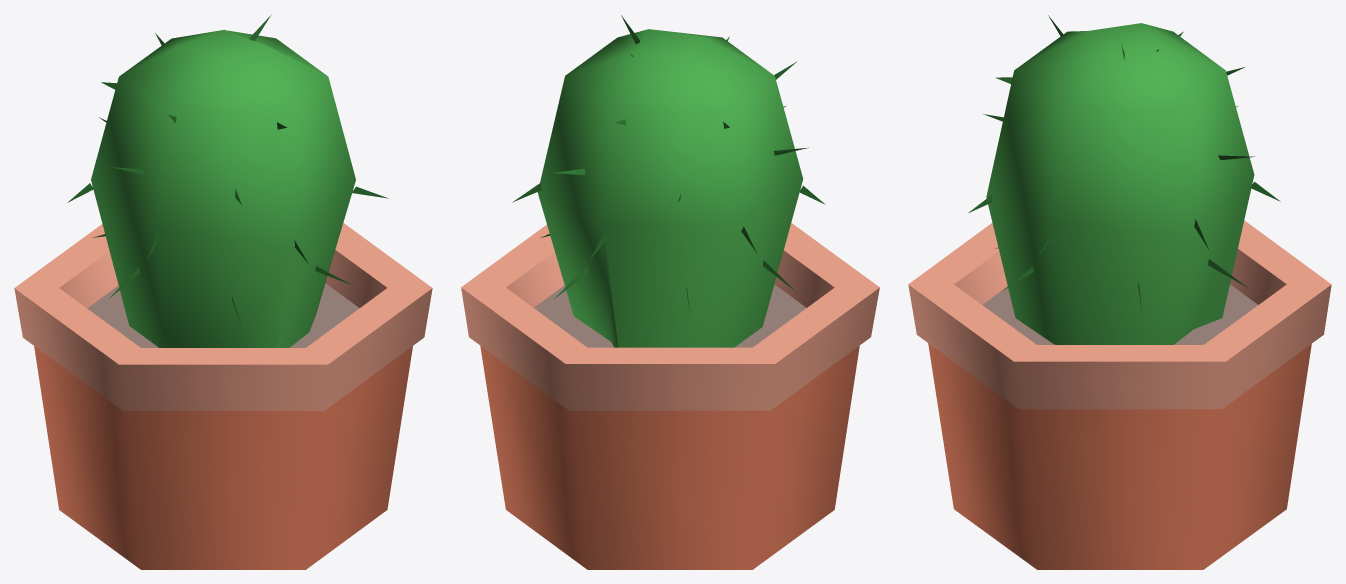
File: Plants_M11.fbx
The picture shows the model from 3 angles, left to right: view 1: azimuth 30°, elevation 25°; view 2: azimuth 150°, elevation 25°; view 3: azimuth 270°, elevation 25°; orthographic projection.
Visible parts, largest first — view 1: Plants_M11; view 2: Plants_M11; view 3: Plants_M11.
Boxes of the visible parts, x1,y1,x2,y2 form: Plants_M11: [14, 14, 432, 569]; Plants_M11: [461, 15, 879, 569]; Plants_M11: [908, 15, 1331, 569].
Bounding box in the file's own units: 0.116 × 0.1708 × 0.1338.
Materials: 1 (1 with a texture image).
